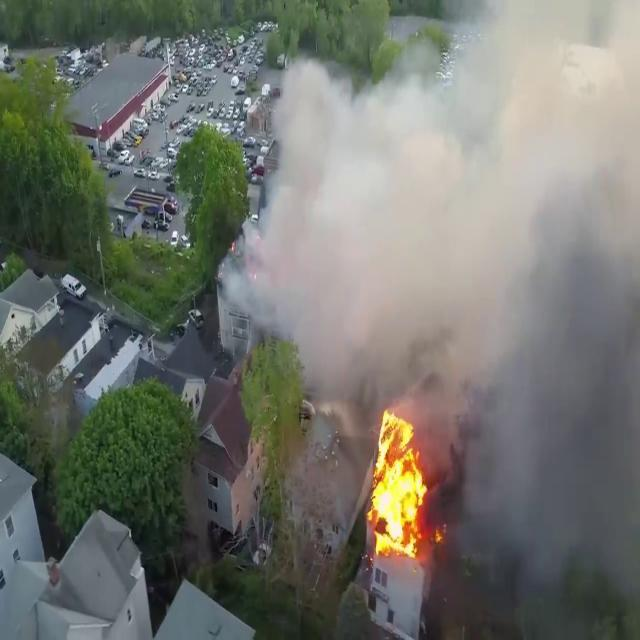Fire: (362, 404, 434, 559)
Smoke: (233, 1, 640, 450)
